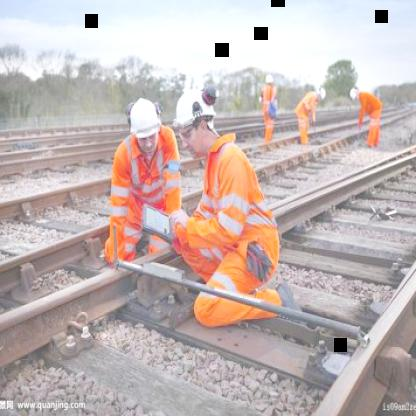helmet: (174, 80, 218, 154), (127, 93, 160, 151), (348, 85, 362, 103), (262, 73, 274, 91), (314, 86, 326, 102)
